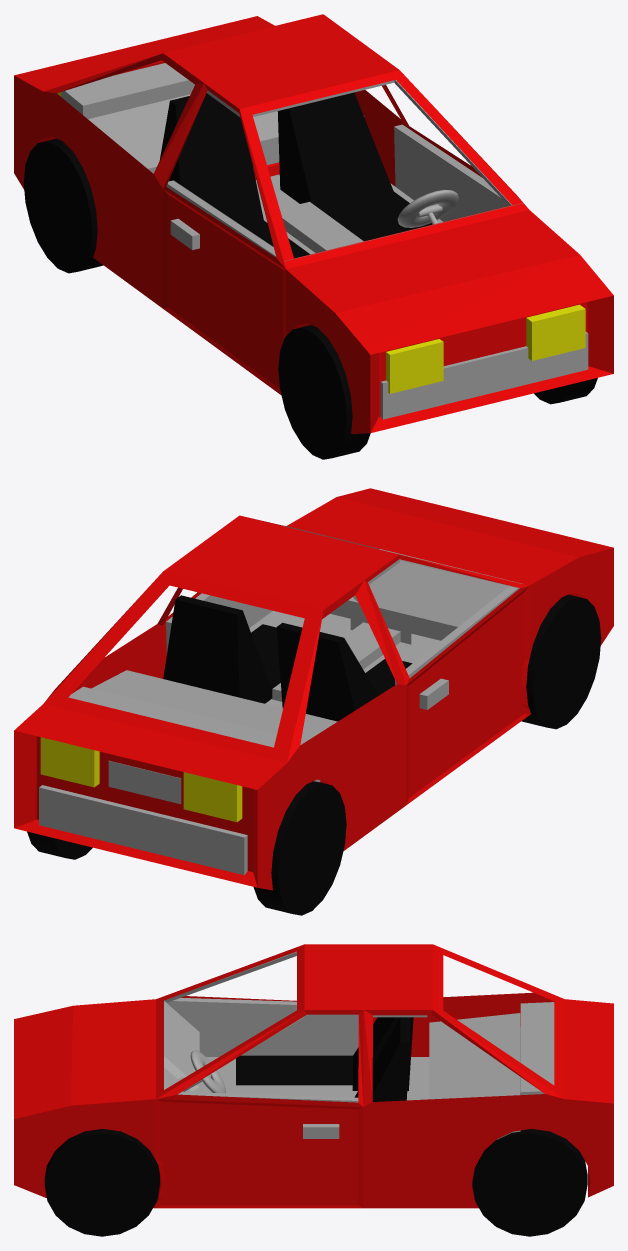
File: Car_Model.fbx
3 renders of one model, top to bottom at view 1: azimuth 30°, elevation 25°; view 2: azimuth 150°, elevation 25°; view 3: azimuth 270°, elevation 25°, orthographic. The views are drawn at different scales.
Visible parts, largest first — view 1: pCube4, pCube12, pCube11, pCylinder12, pCylinder14, pCube17, pCube31, pCube14, pCube13, pCube16, pCube21, pCube7 (+6 smaller); view 2: pCube4, pCube12, pCube18, pCylinder14, pCylinder12, pCube5, pCube11, pCube13, pCube14, pCube23, pCube22, pCube33 (+6 smaller); view 3: pCube4, pCylinder11, pCylinder13, pCube37, pCube13, pCube11, pCube14, pCube12, pCube5, pCube7, pCube33, pCube31 (+3 smaller).
Part boxes in pixels (bbox=[...]): pCube4: bbox=[14, 14, 613, 433]; pCube12: bbox=[277, 92, 432, 241]; pCube11: bbox=[159, 93, 309, 258]; pCylinder12: bbox=[278, 325, 370, 459]; pCylinder14: bbox=[23, 138, 103, 273]; pCube17: bbox=[380, 332, 588, 419]; pCube31: bbox=[394, 124, 511, 221]; pCube14: bbox=[61, 63, 194, 118]; pCube13: bbox=[88, 94, 364, 173]; pCube16: bbox=[526, 304, 585, 360]; pCube21: bbox=[386, 339, 443, 393]; pCube7: bbox=[280, 201, 363, 252]; pCube4: bbox=[14, 488, 613, 890]; pCube12: bbox=[163, 595, 280, 703]; pCube18: bbox=[39, 785, 247, 875]; pCylinder14: bbox=[253, 781, 346, 915]; pCylinder12: bbox=[521, 594, 601, 729]; pCube5: bbox=[284, 525, 522, 644]; pCube11: bbox=[276, 622, 412, 721]; pCube13: bbox=[91, 670, 337, 781]; pCube14: bbox=[68, 686, 276, 747]; pCube23: bbox=[40, 737, 99, 787]; pCube22: bbox=[183, 772, 242, 822]; pCube33: bbox=[249, 610, 440, 707]; pCube4: bbox=[14, 944, 613, 1208]; pCylinder11: bbox=[44, 1129, 159, 1236]; pCylinder13: bbox=[472, 1129, 587, 1236]; pCube37: bbox=[166, 998, 358, 1056]; pCube13: bbox=[429, 1013, 520, 1139]; pCube11: bbox=[236, 1017, 413, 1090]; pCube14: bbox=[520, 1002, 554, 1094]; pCube12: bbox=[354, 1017, 409, 1101]; pCube5: bbox=[164, 1001, 199, 1092]; pCube7: bbox=[199, 1085, 352, 1097]; pCube33: bbox=[199, 1057, 429, 1100]; pCube31: bbox=[178, 1092, 358, 1102].
Size of the model in its own units: 7.24 by 6.59 by 17.28.
